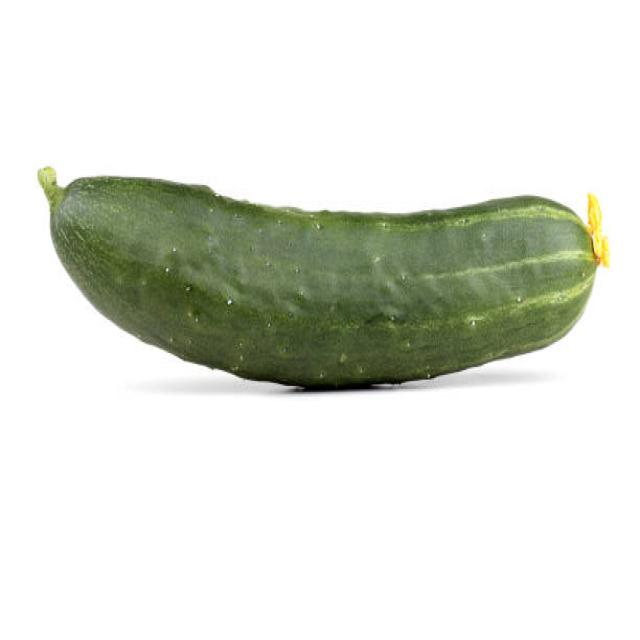cucumber: (49, 173, 595, 390)
